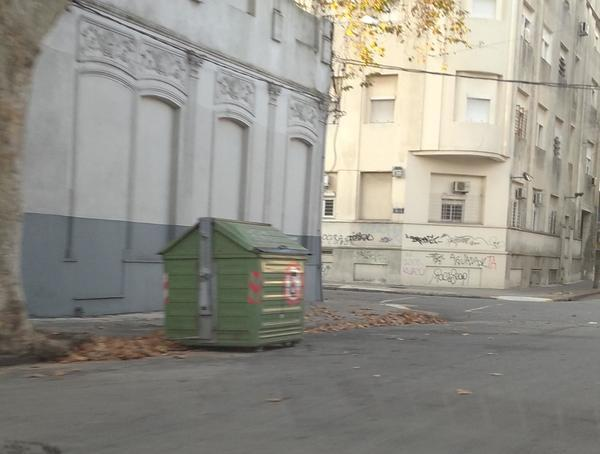Trash: (161, 218, 310, 349)
